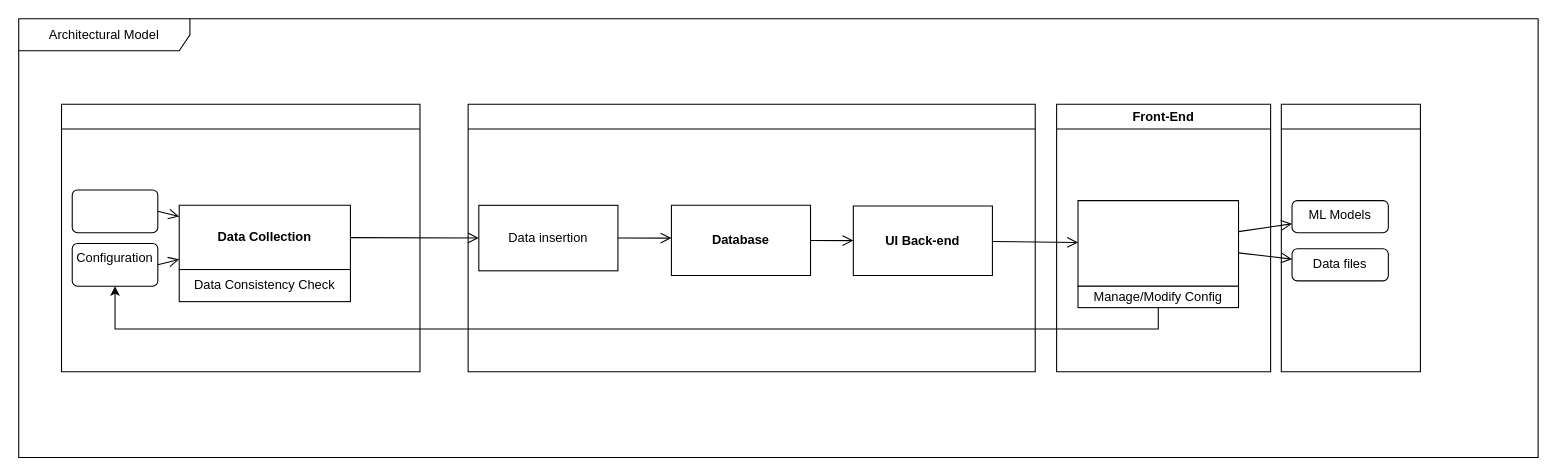
The diagram is 1557 pixels wide and 476 high, and some of its shapes have lost their labels. The shapes that lost their labels are listed below. From the top down, each one's box as (x1, y1, x2, y2) in pixels, then its label:
(71, 189, 158, 233): API
(60, 103, 420, 372): Data Ingestion
(467, 103, 1035, 372): Database and Processing
(1077, 200, 1239, 286): ATS User Interface
(1280, 103, 1420, 372): Analytics
